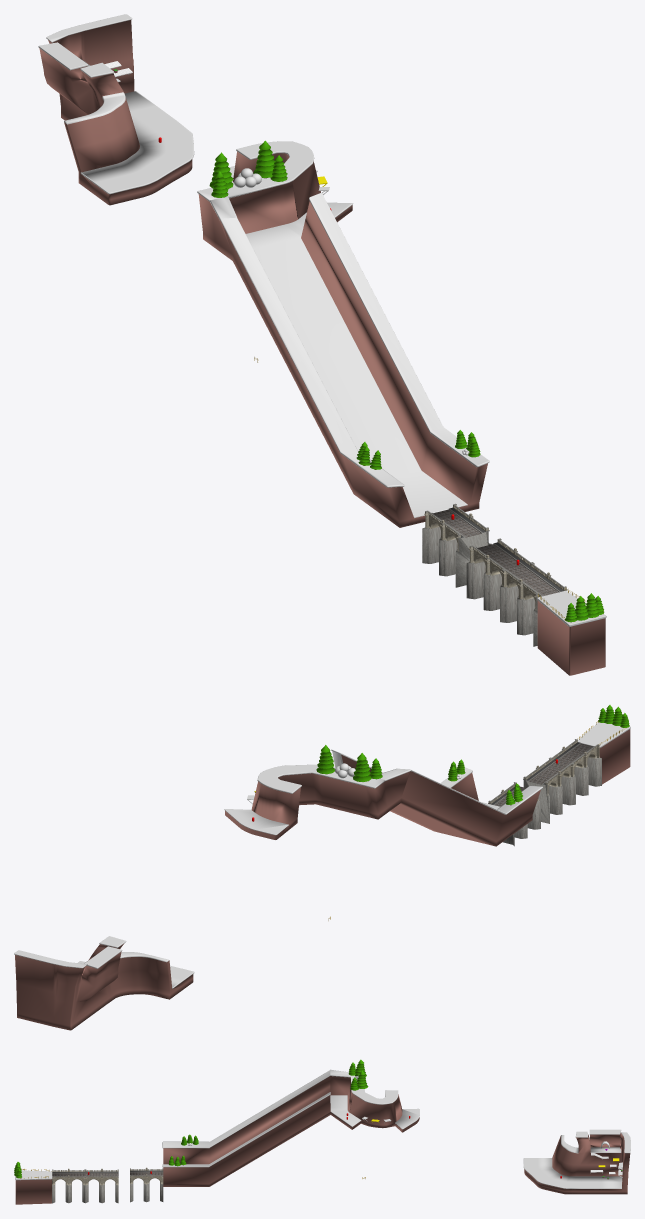
Rendered from Nivel 4 texturizado.fbx.
3 renders of one model, top to bottom at view 1: azimuth 30°, elevation 25°; view 2: azimuth 150°, elevation 25°; view 3: azimuth 270°, elevation 25°, orthographic. The views are drawn at different scales.
Parts seen in each view (by area): view 1: Cube (3).001, Cube (4).001, Cube.002, floating.001, floating, floating.003; view 2: Cube (3).001, Cube (4).001, floating.003, Cube.002, floating, floating.001; view 3: Cube (3).001, Cube (4).001, Cube.002, floating, floating.001, floating.003.
Part boxes in pixels (bbox=[...]): Cube (3).001: bbox=[197, 141, 489, 527]; Cube (4).001: bbox=[38, 14, 194, 205]; Cube.002: bbox=[537, 590, 606, 675]; floating.001: bbox=[422, 503, 491, 587]; floating: bbox=[500, 562, 567, 646]; floating.003: bbox=[466, 538, 533, 621]; Cube (3).001: bbox=[224, 749, 542, 846]; Cube (4).001: bbox=[14, 936, 194, 1030]; floating.003: bbox=[523, 758, 575, 823]; Cube.002: bbox=[578, 722, 630, 784]; floating: bbox=[550, 739, 601, 795]; floating.001: bbox=[488, 782, 540, 846]; Cube (3).001: bbox=[162, 1069, 419, 1186]; Cube (4).001: bbox=[523, 1129, 630, 1194]; Cube.002: bbox=[15, 1170, 52, 1204]; floating: bbox=[52, 1168, 85, 1203]; floating.001: bbox=[130, 1167, 163, 1202]; floating.003: bbox=[85, 1168, 118, 1203].
Bounding box in the file's own units: 18969 × 23541 × 96894.
43 materials, 13 textured.
